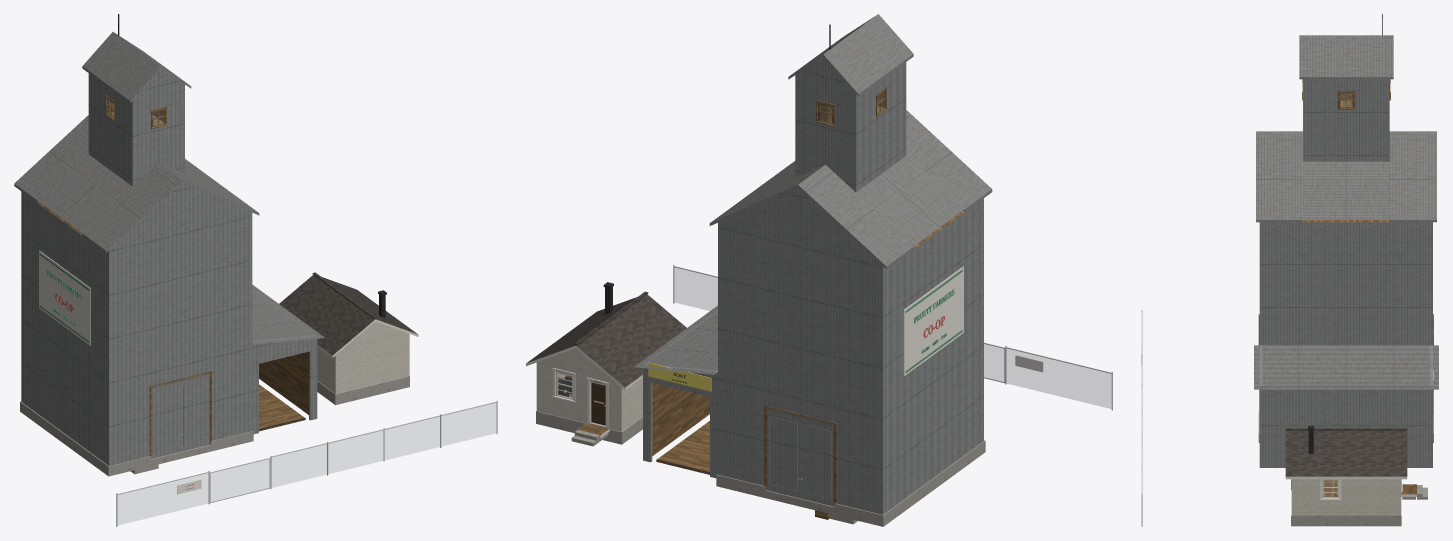
File: P-ELEV.glb
3 views of the same model, side by side, from view 1: azimuth 30°, elevation 25°; view 2: azimuth 150°, elevation 25°; view 3: azimuth 270°, elevation 25° (orthographic). The views are drawn at different scales.
Visible parts, largest first — view 1: shell-col, roof-col, yard_fence_mesh, headhouse-col, roof_office-col, scaleshed-col, headhouse_roof-col, signs-col, scaleshed_roof-col, door_drive_S_R__p, door_drive_S_L__n, door_yard_fence_gate__p (+3 smaller); view 2: shell-col, roof-col, headhouse-col, roof_office-col, yard_fence_mesh, signs-col, scaleshed-col, headhouse_roof-col, scaleshed_roof-col, door_drive_N_L__n, door_drive_N_R__p, truck_scale-col (+3 smaller); view 3: shell-col, roof-col, scaleshed-col, scaleshed_roof-col, headhouse-col, roof_office-col, headhouse_roof-col, windows, porch_0-col, yard_fence-col.
Boxes of the visible parts, x1,y1,x2,y2 form: shell-col: (20, 182, 409, 476); roof-col: (14, 115, 259, 252); yard_fence_mesh: (118, 403, 496, 525); headhouse-col: (88, 69, 184, 186); roof_office-col: (279, 272, 418, 357); scaleshed-col: (252, 289, 317, 434); headhouse_roof-col: (82, 14, 191, 103); signs-col: (39, 250, 201, 494); scaleshed_roof-col: (252, 284, 324, 344); door_drive_S_R__p: (180, 374, 209, 451); door_drive_S_L__n: (151, 381, 180, 458); door_yard_fence_gate__p: (210, 457, 270, 503); shell-col: (536, 188, 985, 526); roof-col: (709, 110, 992, 269); headhouse-col: (795, 57, 906, 192); roof_office-col: (526, 291, 686, 390); yard_fence_mesh: (675, 267, 1111, 408); signs-col: (648, 266, 1043, 391); scaleshed-col: (643, 310, 717, 478); headhouse_roof-col: (788, 14, 913, 96); scaleshed_roof-col: (634, 305, 717, 374); door_drive_N_L__n: (767, 409, 800, 498); door_drive_N_R__p: (800, 417, 833, 506); truck_scale-col: (656, 421, 709, 474); shell-col: (1258, 222, 1433, 526); roof-col: (1256, 131, 1436, 222); scaleshed-col: (1259, 345, 1432, 467); scaleshed_roof-col: (1254, 345, 1438, 389); headhouse-col: (1303, 79, 1389, 161); roof_office-col: (1285, 428, 1407, 479); headhouse_roof-col: (1299, 14, 1393, 79); windows: (1302, 79, 1402, 499); porch_0-col: (1401, 484, 1427, 499); yard_fence-col: (1141, 310, 1142, 526).
Bounding box in the file's own units: 22.18 × 24.28 × 15.2.
25 materials, 14 textured.
